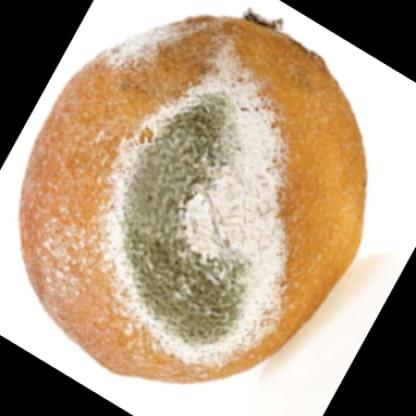rotten: (21, 16, 368, 385)
